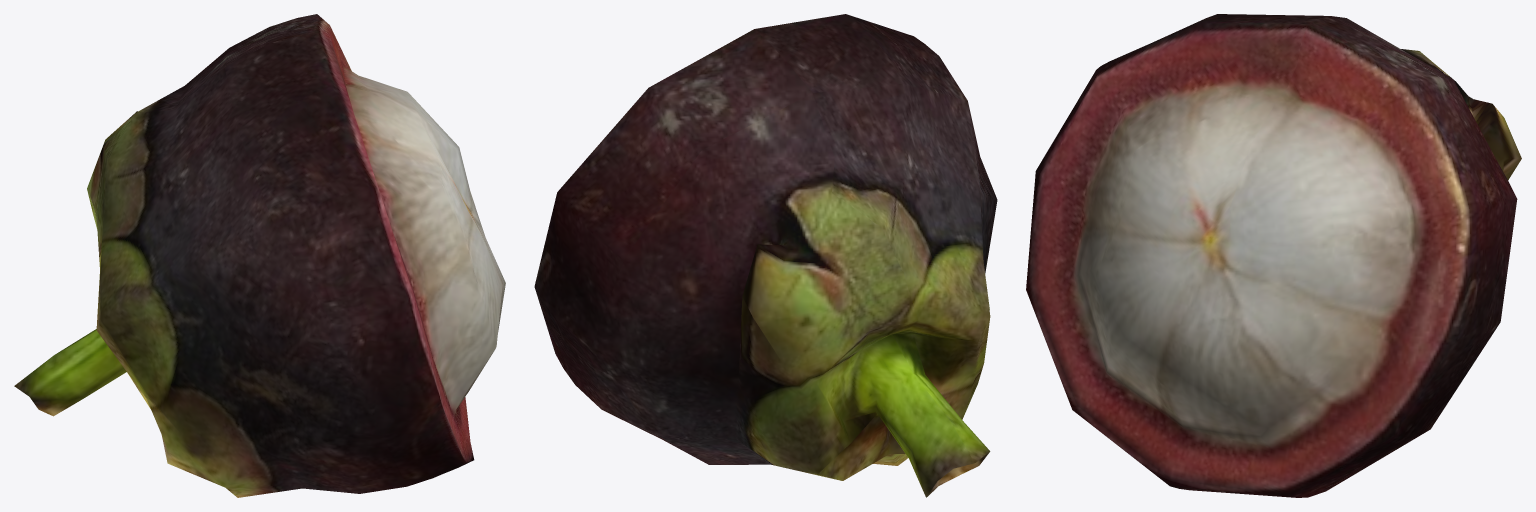
File: A126_Mangosteen_Half_low.fbx
3 views of the same model, side by side, from view 1: azimuth 30°, elevation 25°; view 2: azimuth 150°, elevation 25°; view 3: azimuth 270°, elevation 25° (orthographic). The views are drawn at different scales.
Visible parts, largest first — view 1: A126_Mangosteen_Half_low; view 2: A126_Mangosteen_Half_low; view 3: A126_Mangosteen_Half_low.
Part boxes in pixels (bbox=[...]): A126_Mangosteen_Half_low: bbox=[14, 14, 505, 497]; A126_Mangosteen_Half_low: bbox=[534, 14, 997, 497]; A126_Mangosteen_Half_low: bbox=[1026, 14, 1521, 497].
Size of the model in its own units: 3.3 by 3.32 by 3.29.
Materials: 1 (1 with a texture image).
